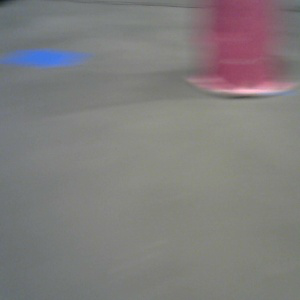Right: (187, 1, 297, 95)
